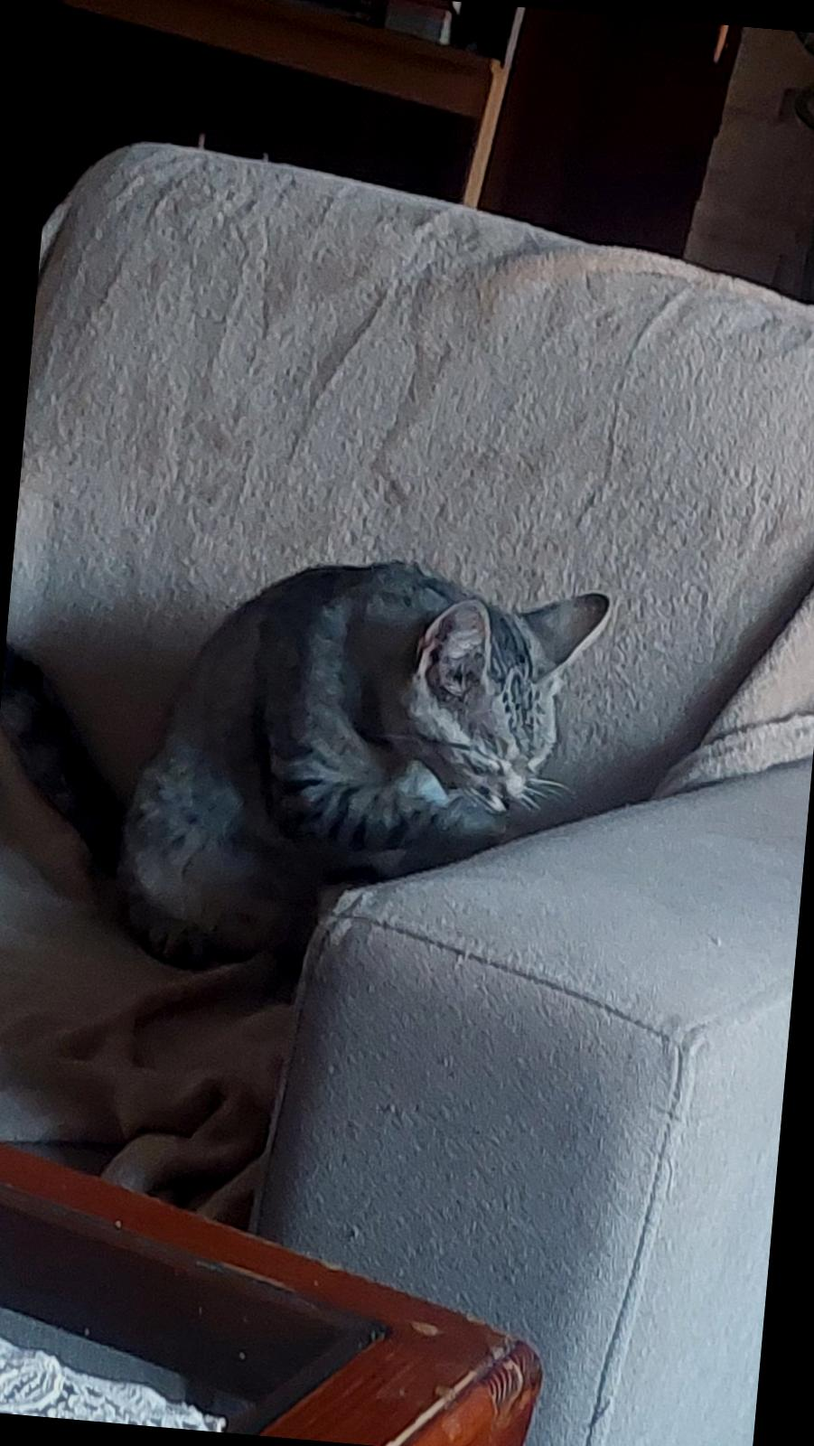macka: (0, 524, 614, 1003)
